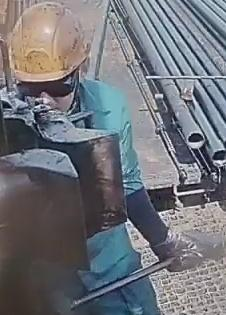gloves: (150, 228, 203, 272)
goggles: (14, 80, 79, 100)
helmet: (6, 0, 92, 82)
vest: (5, 82, 143, 282)
